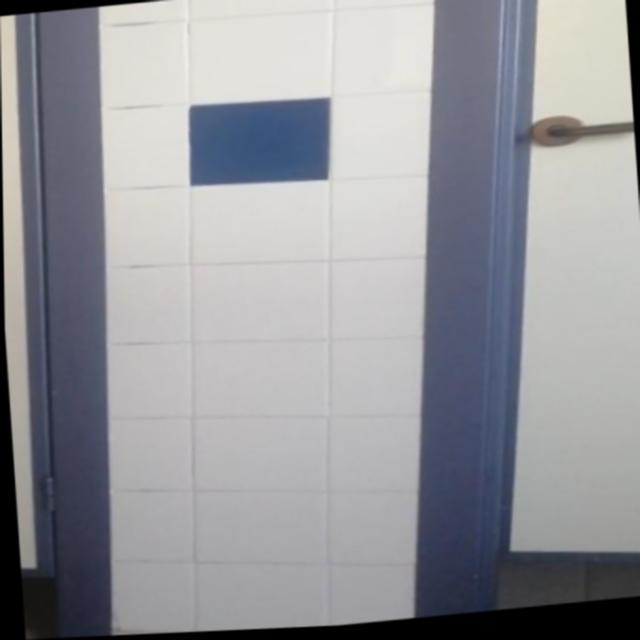door_handle: (541, 115, 634, 146)
